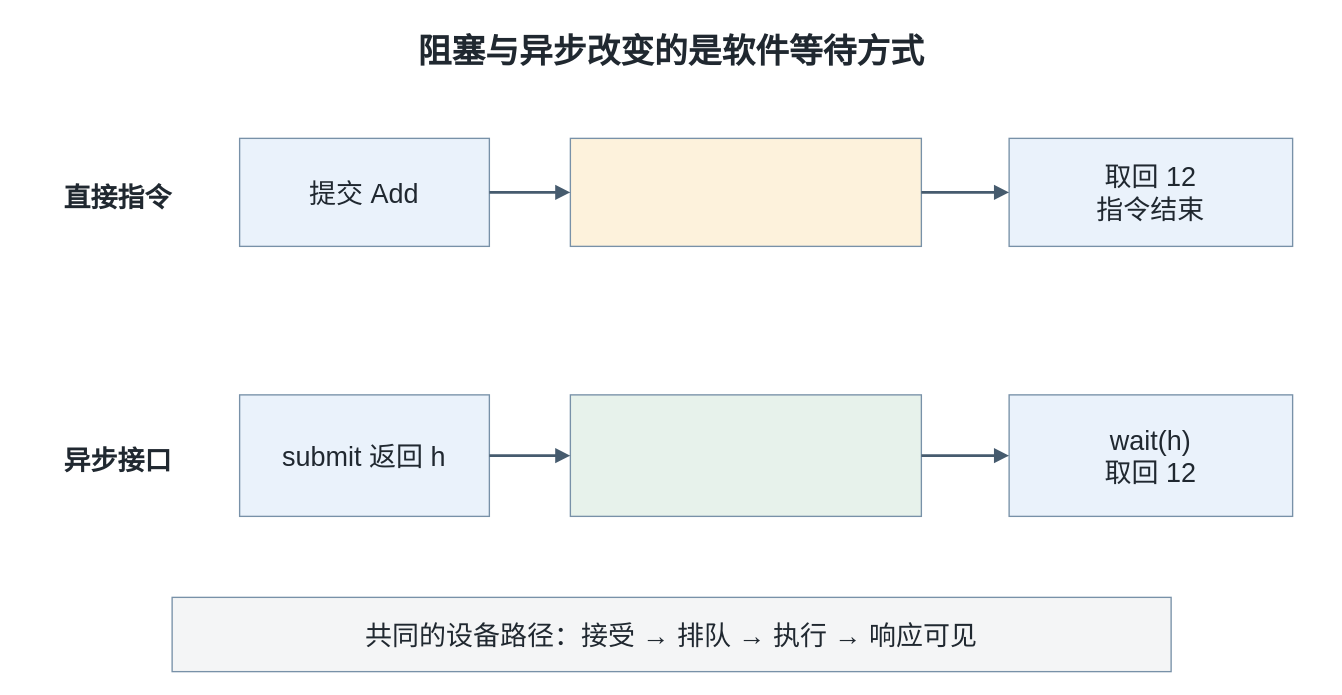
The diagram is 1342 pixels wide and 695 high, and some of its shapes have lost their labels. The shapes that lost their labels are listed below. From the top down, each one's box as (x1, y1, x2, y2) in pixels, then its label:
(569, 137, 921, 246): 等待设备 保留内部 handle
(569, 394, 921, 516): CPU 做其他工作 设备同时处理
